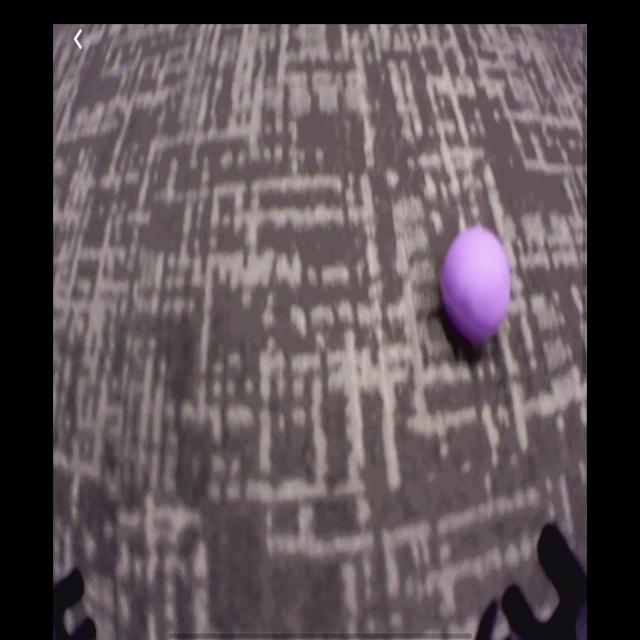ball: (440, 228, 513, 339)
